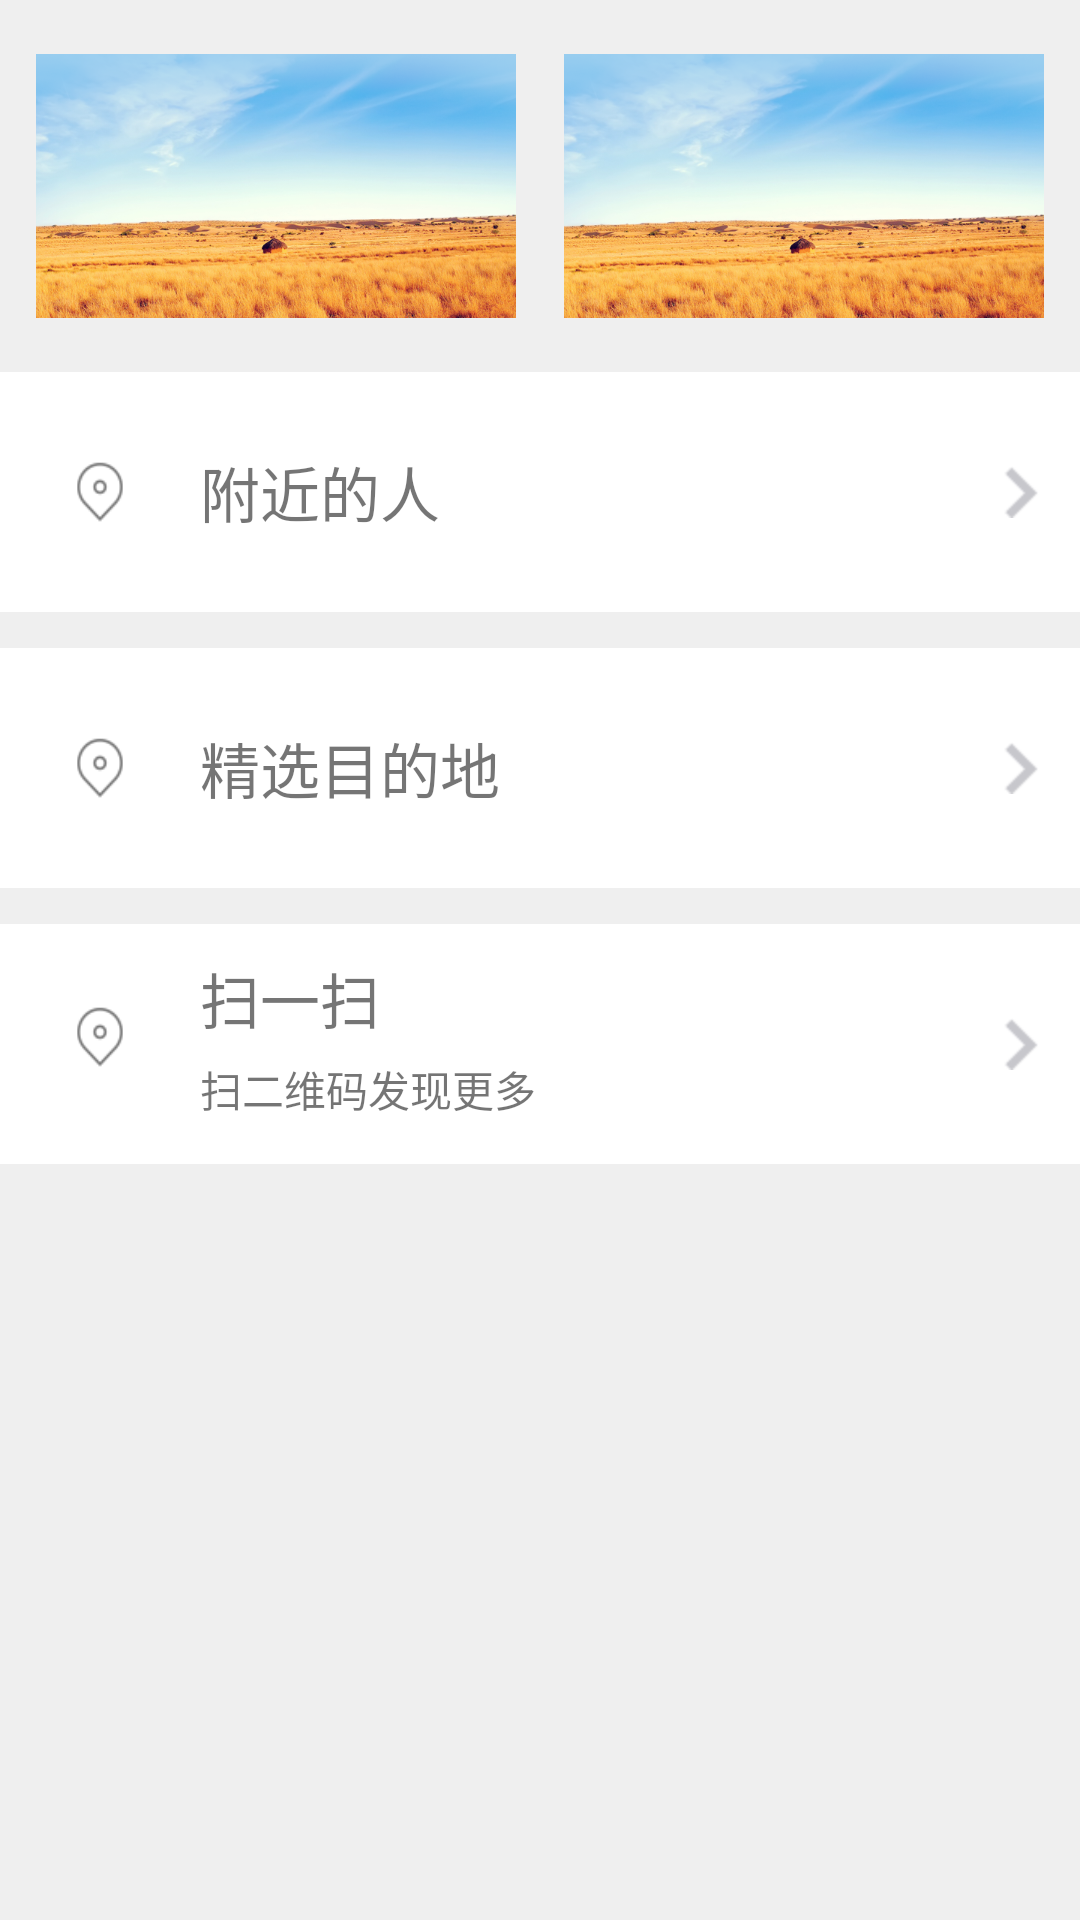

Icons on this 1080 × 1920 Android screen, each with its box as (x1,y1,x2,y2):
location: (77,462,123,521), (77,738,123,797), (77,1007,123,1066)
smallarrow: (1006,468,1037,518), (1006,744,1037,794), (1006,1020,1037,1070)
